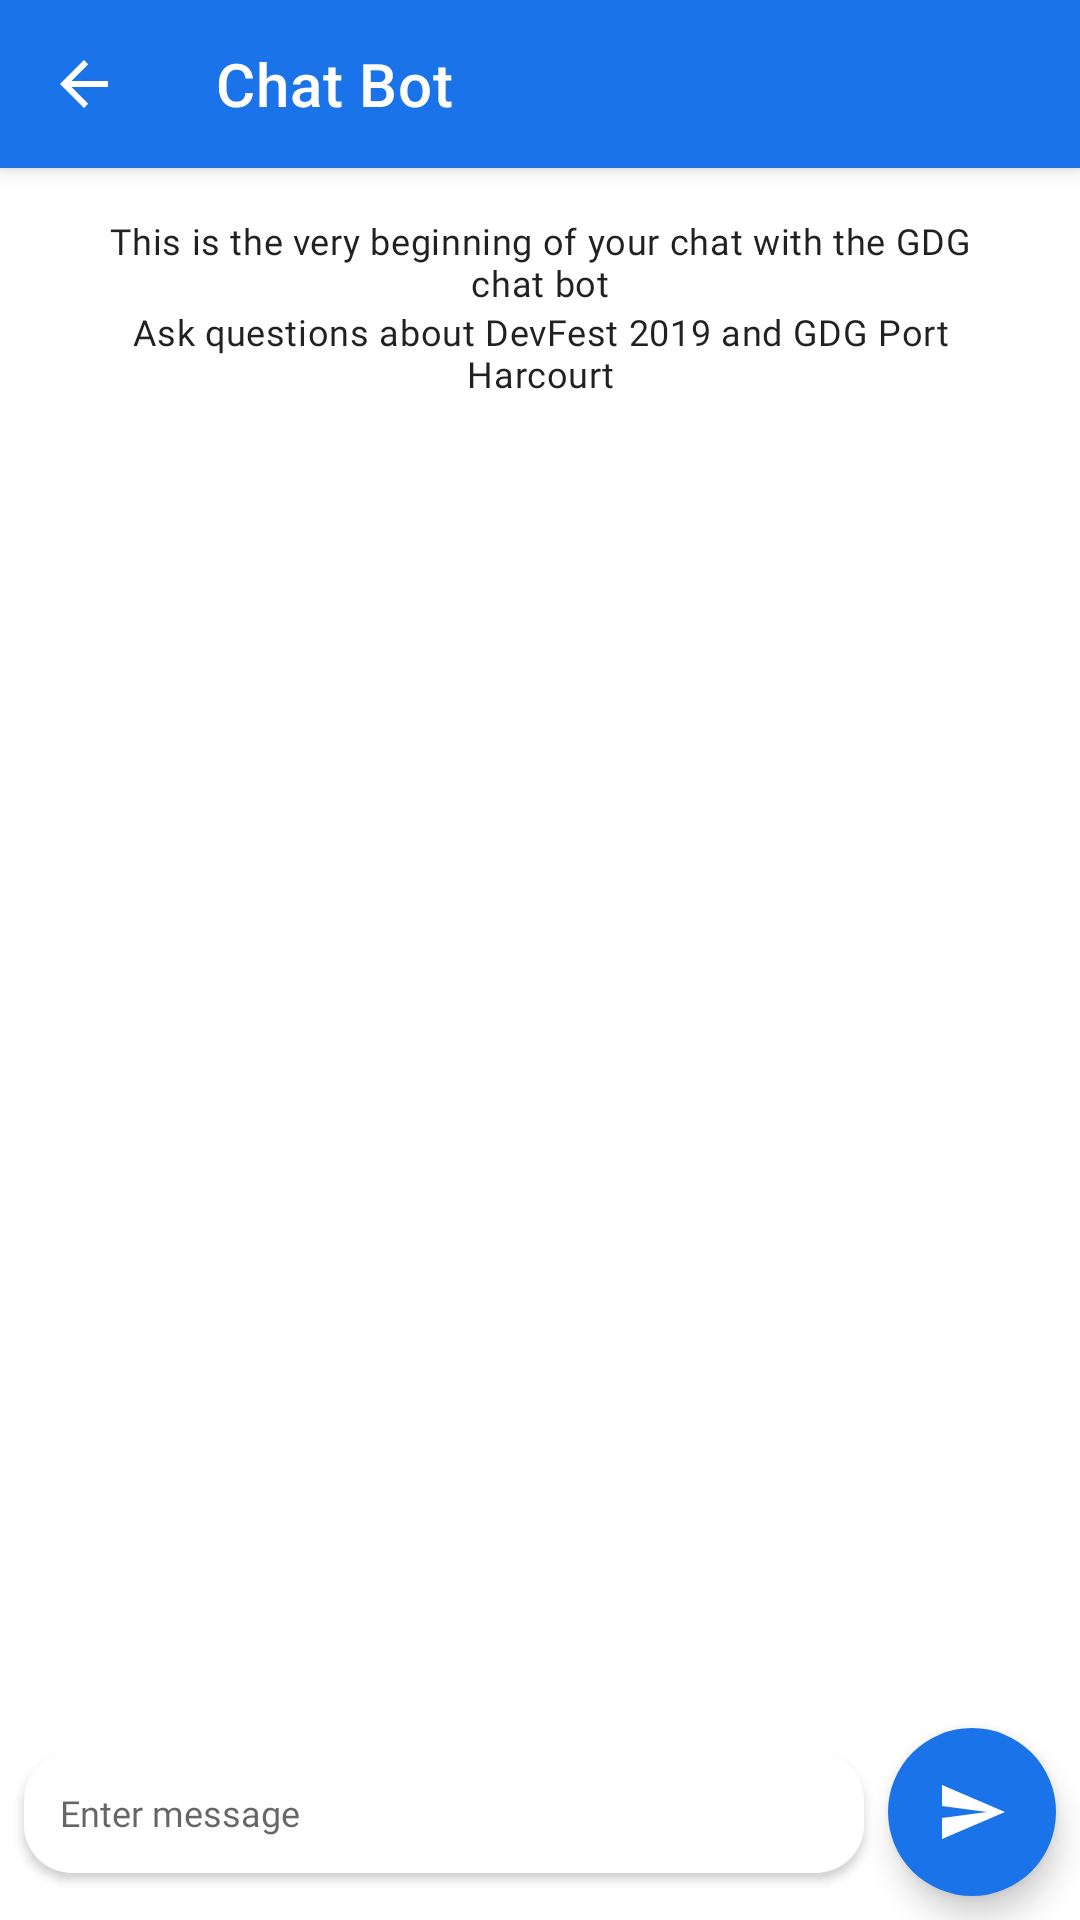

Named icons in this screenshot (1080w x 1920h) and their centers, (x,y):
send: (972,1812)
